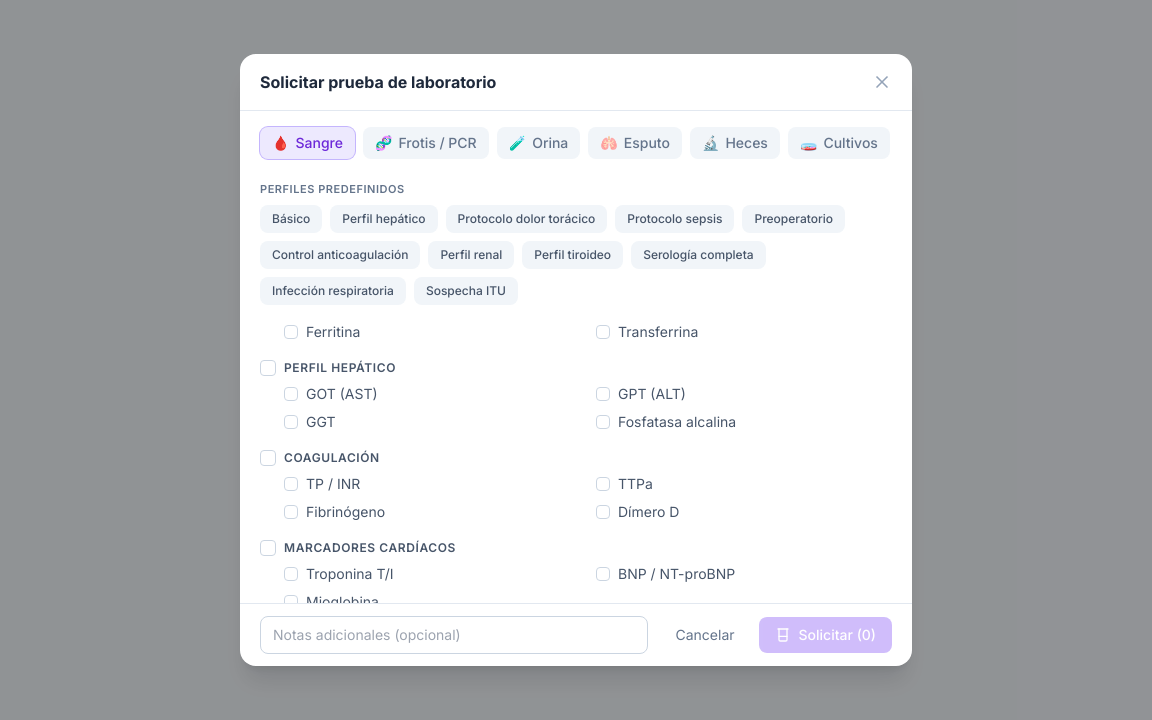
it: NewLabTestModal › seleccionar grupo completo marca todos sus parámetros
(page scrolled)
Click the "Coagulación" group header
Click the button "Coagulación" at (320, 458), box [260,450,380,466]
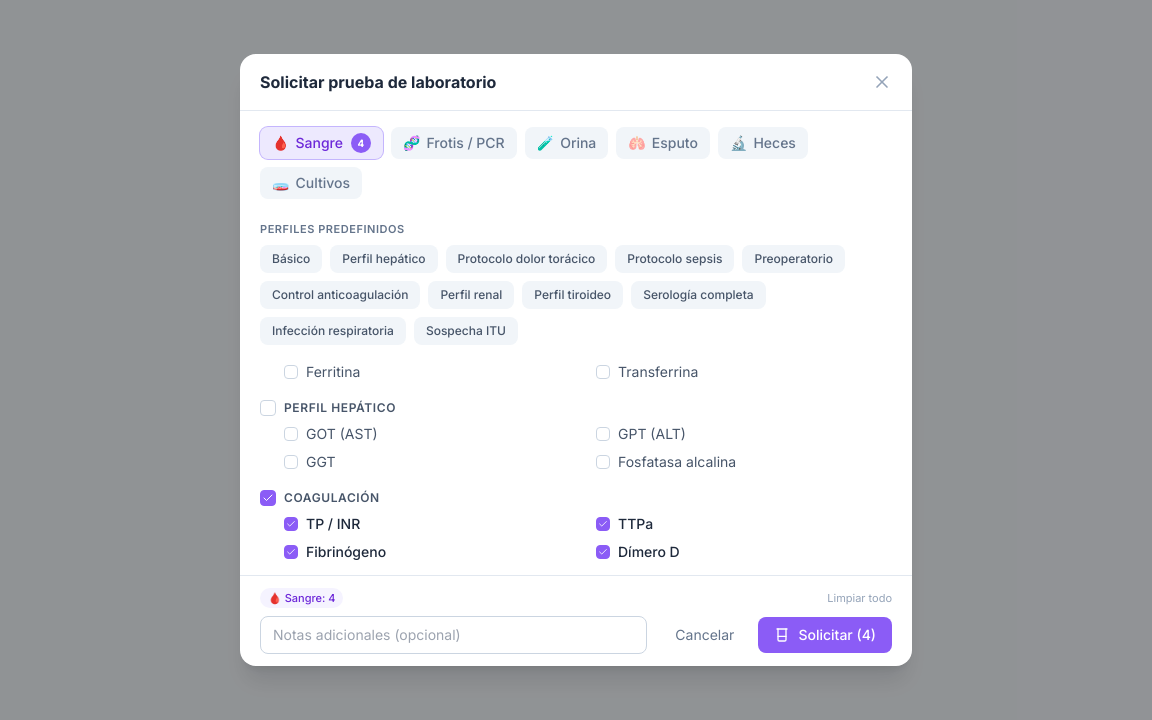
Result: the button "Solicitar (4)" is shown at [758,617,892,653]
